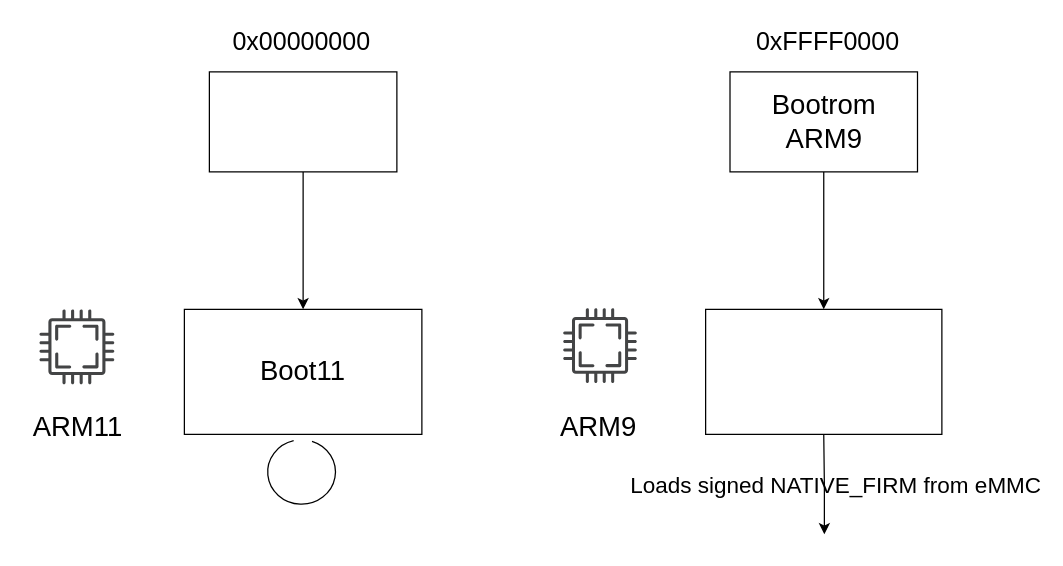
Image size: 1063x566. Some labels were removed from this diagram. Here are the shapes that lost their labels. From the top down, the centre of each, then its label:
At point (302, 121): "Bootrom ARM11".
At point (823, 371): "Boot9".
